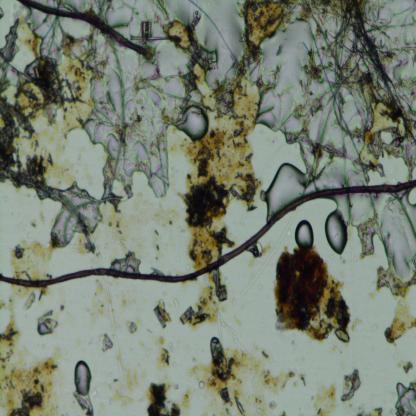Air bubble: (225, 0, 416, 171), (349, 208, 416, 276), (257, 153, 307, 213), (366, 150, 410, 186), (325, 198, 352, 256), (73, 359, 95, 416), (178, 104, 210, 142), (394, 382, 416, 416), (294, 218, 314, 250), (90, 236, 103, 268), (36, 320, 52, 336), (407, 186, 416, 206)
Background material: (184, 73, 260, 267), (81, 52, 170, 203), (0, 17, 94, 131), (273, 246, 354, 347), (0, 92, 65, 206), (0, 315, 68, 416), (191, 336, 257, 416), (106, 203, 180, 262), (50, 182, 108, 249), (150, 0, 200, 57), (0, 284, 49, 331), (192, 267, 224, 328), (9, 237, 52, 280), (363, 264, 409, 302), (382, 298, 416, 346), (91, 0, 142, 27), (257, 365, 306, 393), (148, 381, 181, 416), (122, 365, 147, 403), (313, 383, 337, 416), (340, 368, 362, 401), (110, 253, 141, 274), (92, 282, 108, 322), (251, 388, 266, 416), (248, 241, 271, 259), (157, 348, 172, 372), (99, 331, 114, 354), (159, 299, 173, 323), (107, 393, 131, 407), (357, 404, 384, 416), (378, 129, 394, 148), (126, 317, 142, 336), (121, 289, 136, 309), (182, 390, 193, 411), (396, 360, 413, 373), (258, 348, 273, 362), (350, 316, 362, 333), (39, 309, 55, 320), (275, 42, 285, 56), (141, 343, 154, 353), (154, 335, 165, 346), (58, 302, 66, 314), (268, 400, 276, 410), (174, 299, 179, 310), (169, 342, 174, 353), (281, 409, 288, 416), (258, 284, 262, 290)
Diatom: (187, 47, 208, 70), (179, 306, 195, 324), (184, 72, 198, 92), (154, 307, 166, 328), (206, 50, 218, 70), (217, 284, 228, 303), (142, 20, 153, 37), (180, 93, 191, 110), (220, 386, 230, 403), (242, 55, 255, 68), (228, 186, 239, 200)
Glass filter fibre: (240, 211, 297, 296), (103, 275, 126, 396), (217, 312, 250, 358), (350, 237, 356, 370), (341, 356, 368, 373)
Microfibre: (0, 178, 416, 289), (18, 0, 146, 58)
